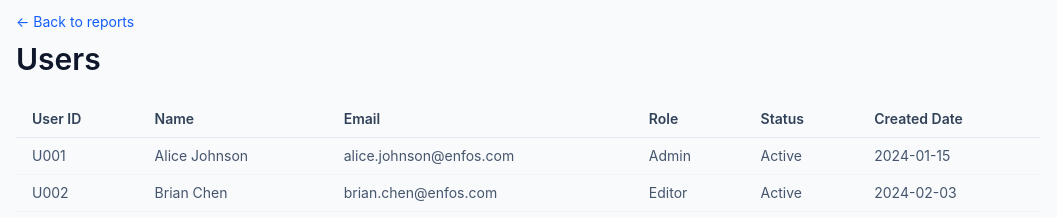
Scenario: ReportDetailPage (users) › shows a sort indicator on a column header after it is clicked
expect the text "Alice Johnson" is shown: met, box [139, 138, 328, 174]
Click the column heading "Name" at [233, 119], box [139, 101, 328, 138]
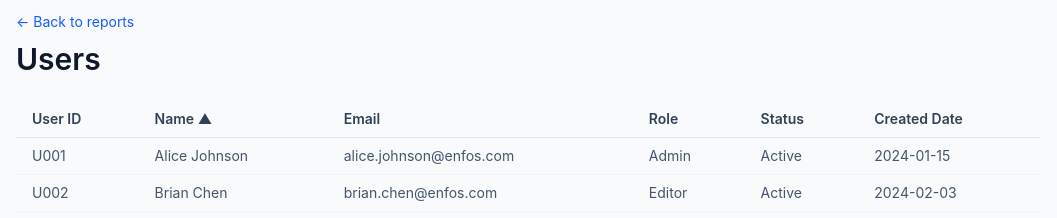
expect the column heading "Name" reads "Name ▲": met, box [194, 110, 212, 127]
